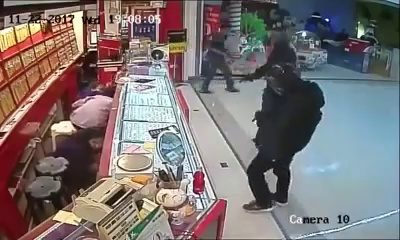helmet: (265, 62, 302, 95)
